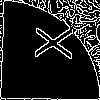X: (25, 24, 74, 61)
